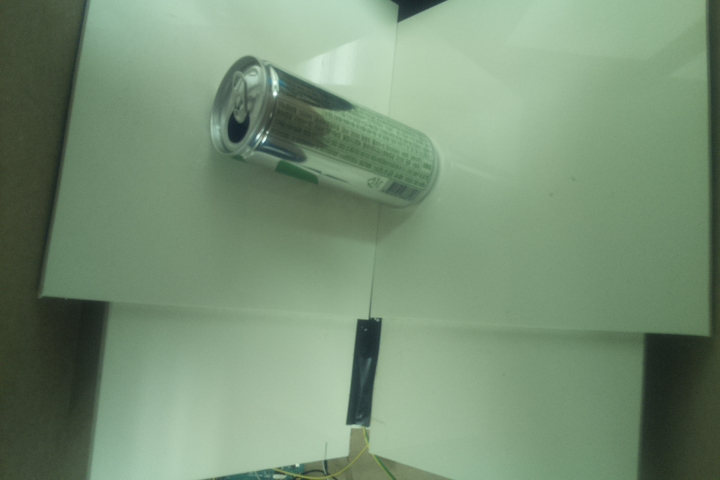can: (208, 54, 442, 213)
